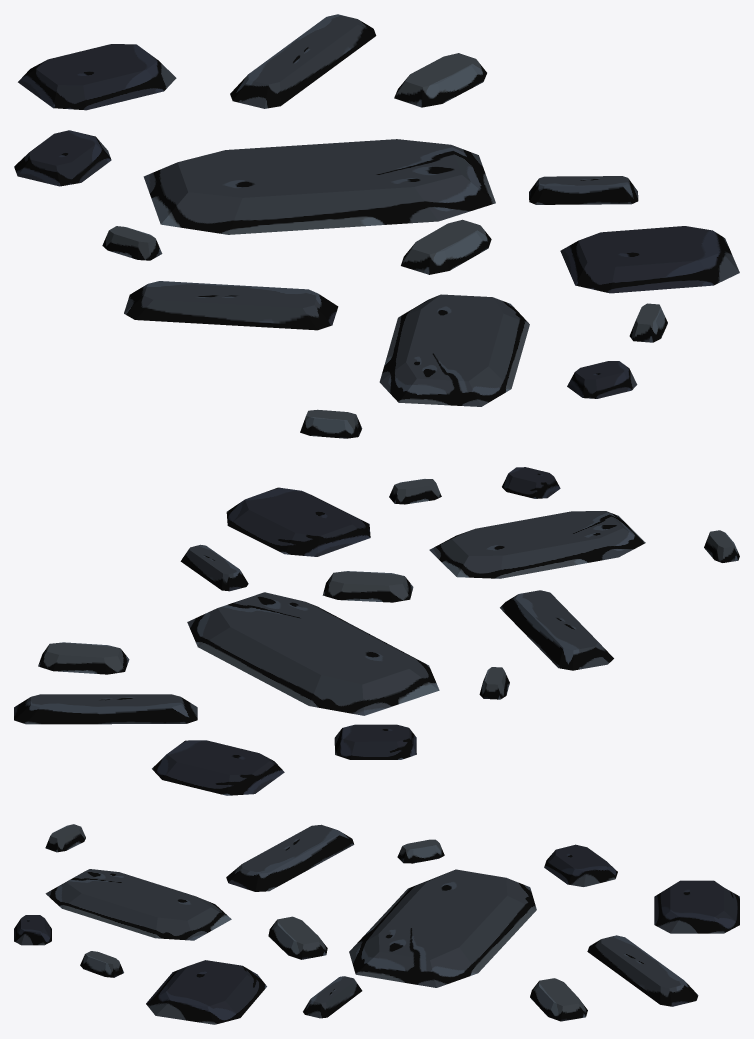
Rendered from DaChaos.fbx.
3 renders of one model, top to bottom at view 1: azimuth 30°, elevation 25°; view 2: azimuth 150°, elevation 25°; view 3: azimuth 270°, elevation 25°, orthographic. The views are drawn at different scales.
Visible parts, largest first — view 1: DaChaos; view 2: DaChaos; view 3: DaChaos.
Boxes of the visible parts, bbox=[...] form: DaChaos: bbox=[14, 14, 739, 438]; DaChaos: bbox=[14, 467, 739, 795]; DaChaos: bbox=[14, 824, 739, 1024].
Size of the model in its own units: 2.08 by 3.28 by 0.0805.
Materials: 1 (1 with a texture image).
